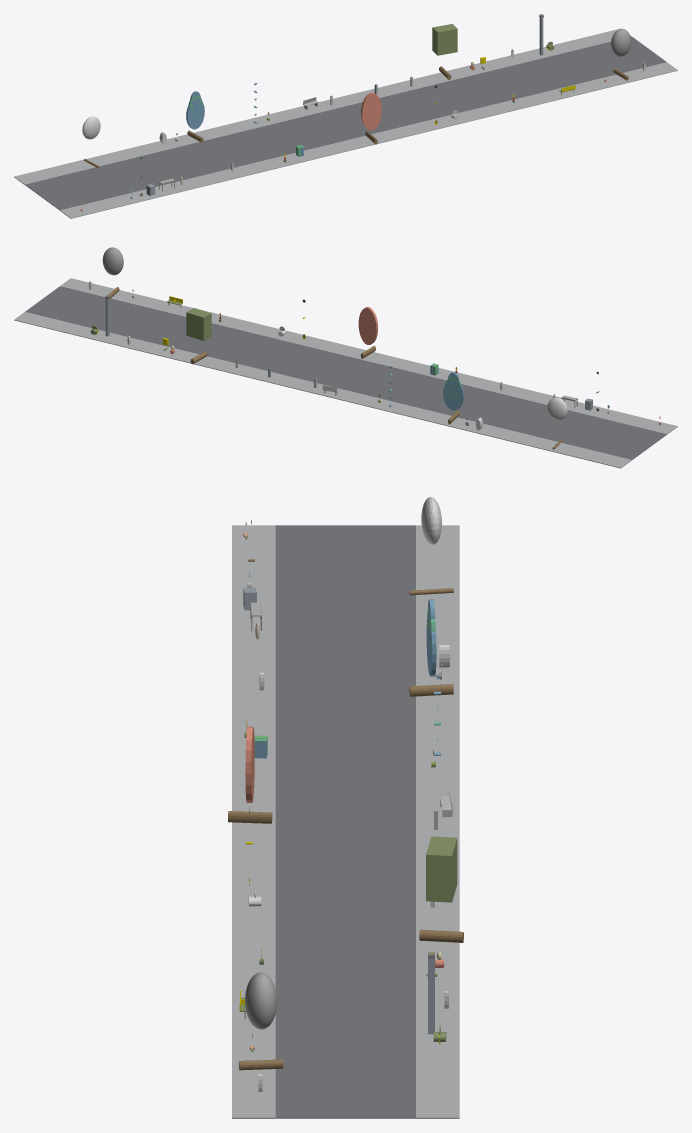
The picture shows the model from 3 angles, top to bottom: view 1: azimuth 30°, elevation 25°; view 2: azimuth 150°, elevation 25°; view 3: azimuth 270°, elevation 25°; orthographic projection. The views are drawn at different scales.
Visible parts, largest first — view 1: road_slab, sidewalk_left, sidewalk_right, inst_0015, inst_0014, inst_0013, inst_0016, inst_0012; view 2: road_slab, sidewalk_right, sidewalk_left, inst_0015, inst_0014, inst_0013, inst_0016, inst_0012; view 3: road_slab, sidewalk_left, sidewalk_right, inst_0015, inst_0016, inst_0014, inst_0013, inst_0012.
Part boxes in pixels (bbox=[...]): road_slab: bbox=[25, 36, 666, 210]; sidewalk_left: bbox=[60, 62, 677, 218]; sidewalk_right: bbox=[14, 28, 631, 184]; inst_0015: bbox=[432, 24, 457, 79]; inst_0014: bbox=[361, 92, 381, 144]; inst_0013: bbox=[186, 91, 204, 142]; inst_0016: bbox=[611, 28, 631, 80]; inst_0012: bbox=[82, 116, 100, 167]; road_slab: bbox=[25, 286, 666, 459]; sidewalk_right: bbox=[14, 312, 631, 468]; sidewalk_left: bbox=[60, 278, 677, 434]; inst_0015: bbox=[186, 308, 211, 364]; inst_0014: bbox=[358, 307, 378, 358]; inst_0013: bbox=[443, 372, 463, 424]; inst_0016: bbox=[102, 247, 123, 298]; inst_0012: bbox=[547, 397, 567, 449]; road_slab: bbox=[275, 525, 415, 1118]; sidewalk_left: bbox=[232, 525, 275, 1118]; sidewalk_right: bbox=[416, 525, 459, 1118]; inst_0015: bbox=[419, 836, 463, 942]; inst_0016: bbox=[239, 972, 283, 1070]; inst_0014: bbox=[228, 726, 272, 823]; inst_0013: bbox=[409, 599, 453, 696]; inst_0012: bbox=[409, 497, 453, 595].
Bounding box in the file's own units: 80 × 6.08 × 13.46.
